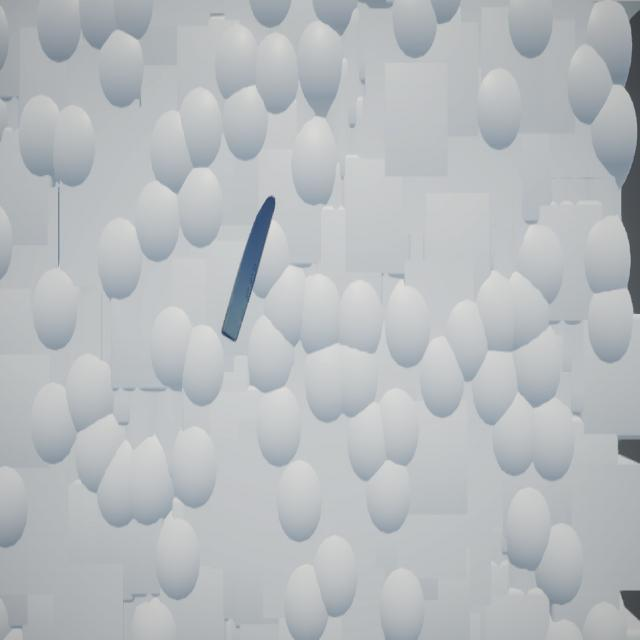top_knife: (222, 197, 276, 344)
